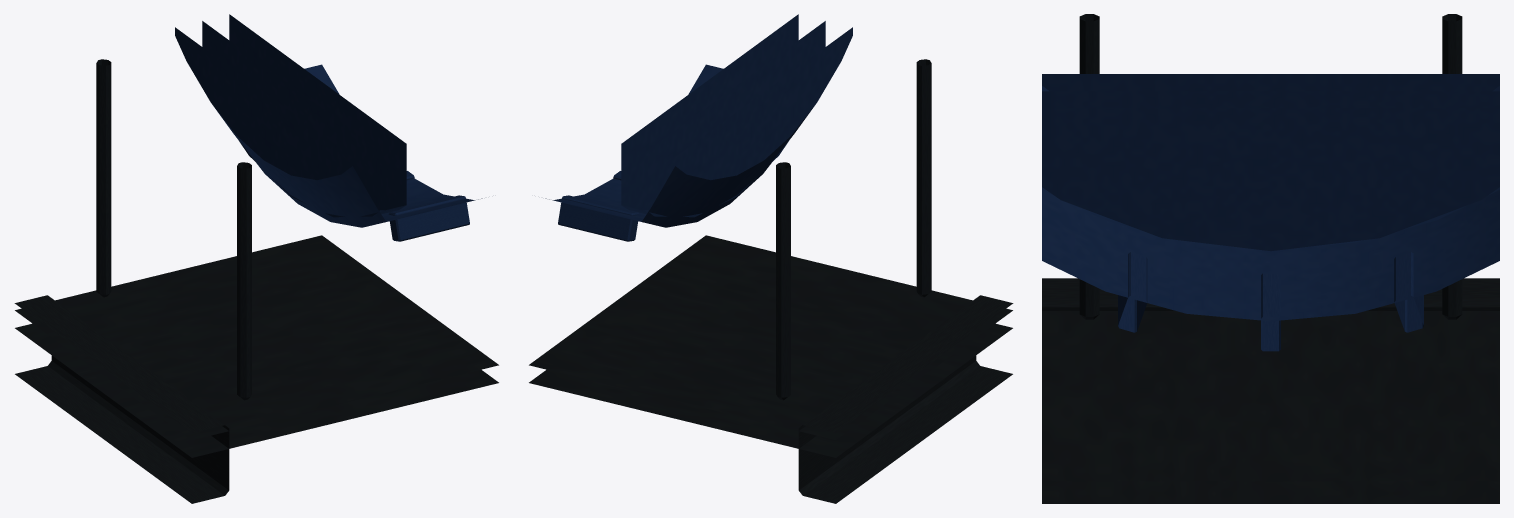
The model's file is cell_12.obj.
3 renders of one model, left to right at view 1: azimuth 30°, elevation 25°; view 2: azimuth 150°, elevation 25°; view 3: azimuth 270°, elevation 25°, orthographic. The views are drawn at different scales.
Visible parts, largest first — view 1: cell_12; view 2: cell_12; view 3: cell_12.
Part boxes in pixels (x1,y1,x2,y2): cell_12: (14,14,498,503); cell_12: (529,14,1013,503); cell_12: (1042,14,1499,503).
Size of the model in its own units: 1 by 0.956 by 1.
